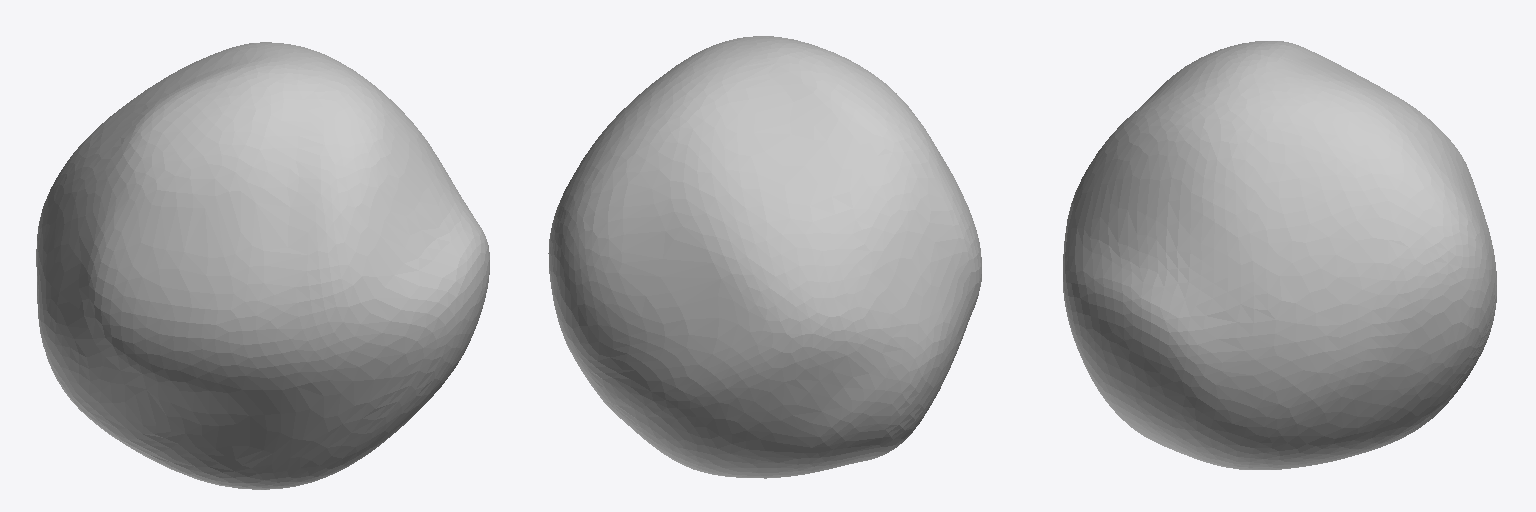
File: planete3.obj
3 views of the same model, side by side, from view 1: azimuth 30°, elevation 25°; view 2: azimuth 150°, elevation 25°; view 3: azimuth 270°, elevation 25° (orthographic).
Visible parts, largest first — view 1: planete3; view 2: planete3; view 3: planete3.
Boxes of the visible parts, <box> form: planete3: <box>36,42,489,489</box>; planete3: <box>548,36,981,478</box>; planete3: <box>1063,41,1496,469</box>.
Size of the model in its own units: 1 by 1 by 0.9996.